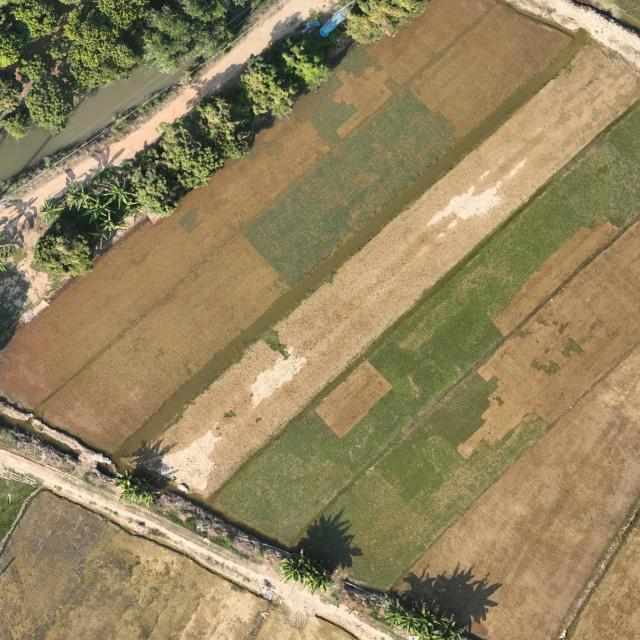tree: (50, 5, 140, 91), (139, 2, 235, 76), (154, 120, 225, 190), (238, 52, 301, 121), (194, 96, 254, 160), (346, 0, 431, 45), (128, 147, 180, 216), (384, 600, 462, 640), (32, 228, 94, 276), (25, 73, 76, 131), (281, 43, 334, 92), (8, 0, 62, 41), (276, 556, 333, 594), (95, 0, 152, 30), (112, 472, 155, 506), (98, 180, 140, 210), (0, 30, 32, 68), (18, 53, 49, 85)
